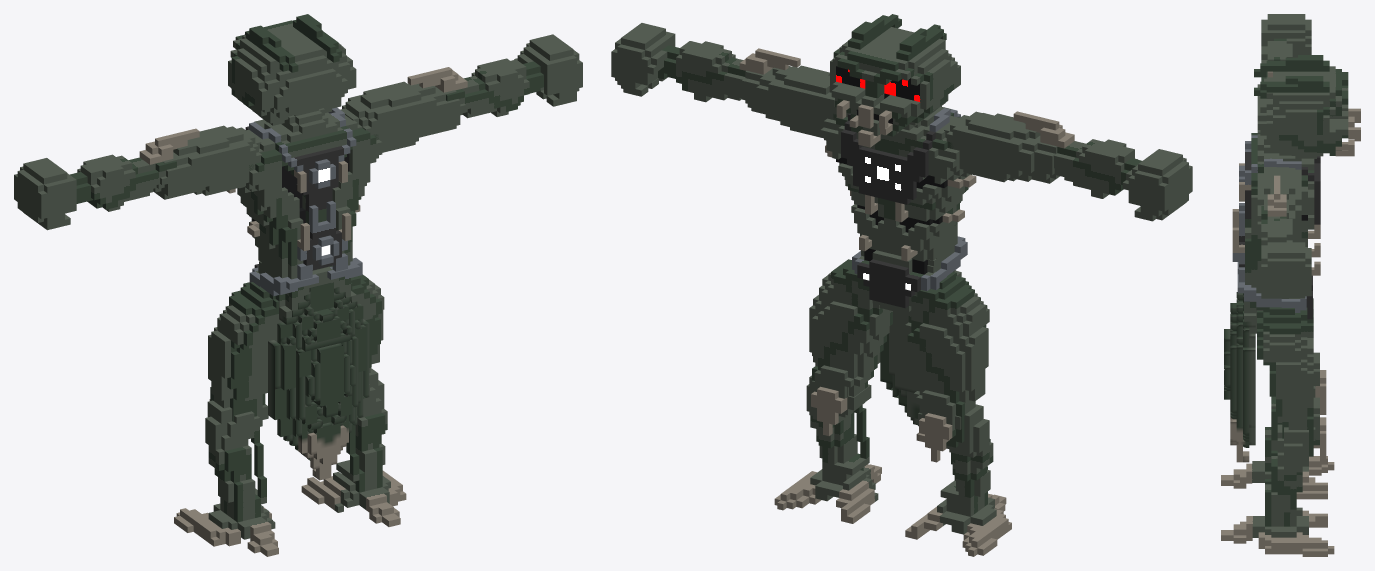
Rendered from General Ukzaa.dae.
3 renders of one model, left to right at view 1: azimuth 30°, elevation 25°; view 2: azimuth 150°, elevation 25°; view 3: azimuth 270°, elevation 25°, orthographic. The views are drawn at different scales.
Visible parts, largest first — view 1: Chest-local, Tail-local, Head-local, RFoot-local, RWrist-local, LWrist-local, RLeg-local, LFoot-local, LArm-local, RArm-local, Waist-local, LLeg-local; view 2: Chest-local, Head-local, RLeg-local, LLeg-local, RWrist-local, LWrist-local, RFoot-local, LFoot-local, RArm-local, LArm-local, Waist-local, Tail-local; view 3: Head-local, LFoot-local, LLeg-local, Chest-local, LWrist-local, Tail-local, RFoot-local, RWrist-local, LArm-local, Waist-local, RLeg-local.
Boxes of the visible parts, x1,y1,x2,y2 form: Chest-local: [226, 107, 382, 280]; Tail-local: [268, 282, 369, 480]; Head-local: [228, 14, 356, 125]; RFoot-local: [174, 400, 278, 556]; RWrist-local: [14, 128, 199, 230]; LWrist-local: [407, 34, 582, 118]; RLeg-local: [208, 282, 282, 421]; LFoot-local: [301, 368, 406, 526]; LArm-local: [340, 81, 465, 152]; RArm-local: [153, 125, 263, 199]; Waist-local: [249, 257, 362, 330]; LLeg-local: [351, 274, 384, 372]; Chest-local: [820, 106, 976, 272]; Head-local: [830, 14, 960, 147]; RLeg-local: [905, 271, 989, 462]; LLeg-local: [809, 259, 892, 435]; RWrist-local: [1013, 111, 1192, 221]; LWrist-local: [611, 23, 800, 102]; RFoot-local: [905, 404, 1011, 556]; LFoot-local: [774, 375, 881, 523]; RArm-local: [944, 111, 1059, 183]; LArm-local: [741, 65, 836, 138]; Waist-local: [852, 236, 967, 314]; Tail-local: [877, 311, 924, 442]; Head-local: [1254, 55, 1360, 158]; LFoot-local: [1221, 424, 1334, 556]; LLeg-local: [1257, 307, 1326, 462]; Chest-local: [1232, 133, 1320, 298]; LWrist-local: [1261, 175, 1311, 298]; Tail-local: [1224, 292, 1255, 462]; RFoot-local: [1221, 377, 1334, 499]; RWrist-local: [1261, 14, 1311, 81]; LArm-local: [1257, 167, 1301, 238]; Waist-local: [1237, 262, 1312, 333]; RLeg-local: [1307, 298, 1326, 414].
Bounding box in the file's own units: 91.92 × 77.71 × 22.26.
